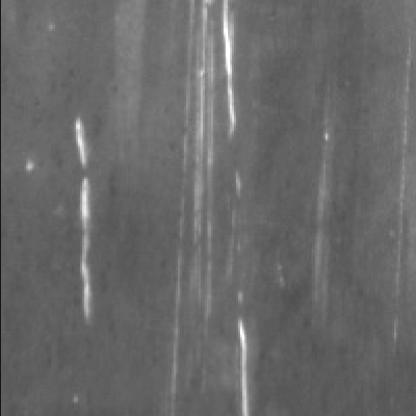scratches: (177, 6, 237, 408), (66, 112, 102, 324), (233, 314, 260, 414)
